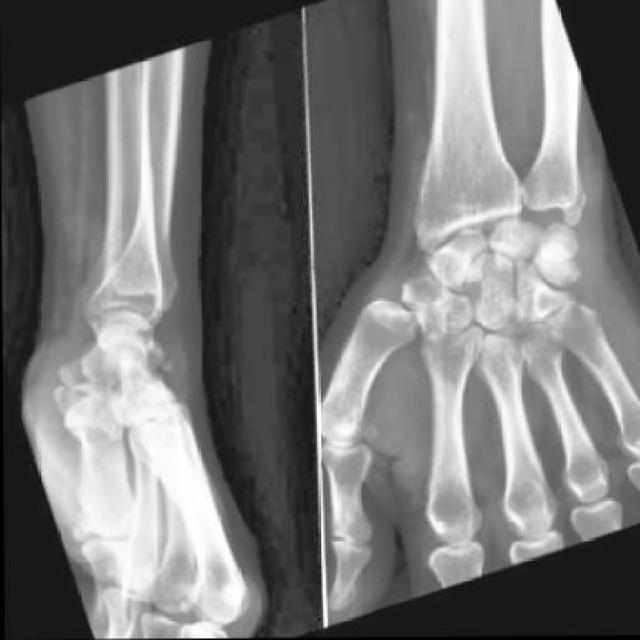Fracture: (529, 235, 579, 279), (134, 342, 179, 387)
